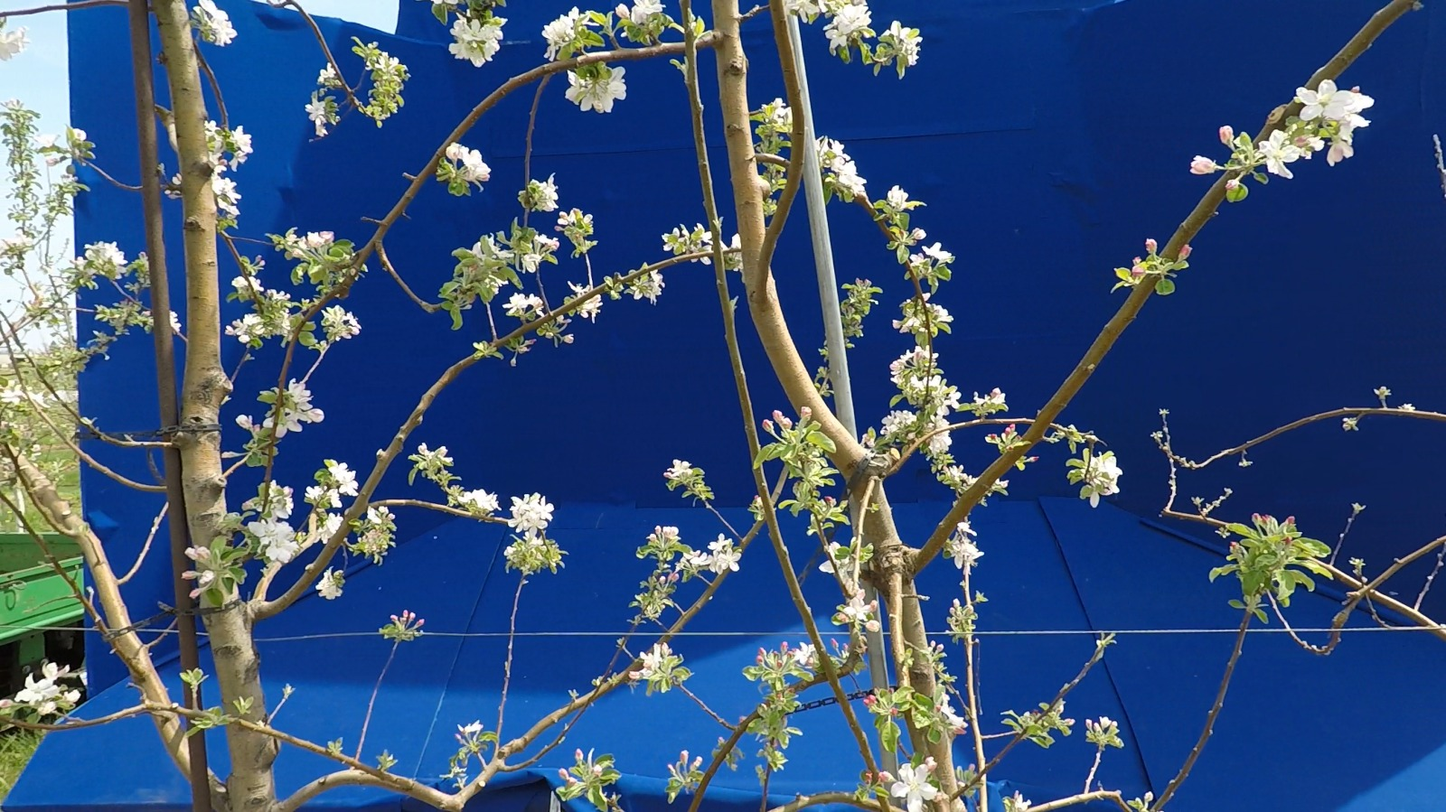flower: (1294, 79, 1375, 166), (785, 0, 876, 56), (249, 488, 300, 564), (542, 7, 603, 62), (891, 757, 949, 812), (495, 493, 555, 546), (276, 372, 324, 438), (450, 14, 507, 67), (566, 67, 626, 113), (1255, 130, 1311, 179), (14, 662, 72, 706), (684, 534, 742, 577), (443, 143, 492, 191), (830, 139, 868, 198), (194, 0, 238, 46), (837, 588, 880, 632), (629, 643, 678, 680), (882, 22, 923, 66), (890, 346, 930, 387), (211, 166, 241, 219), (85, 242, 127, 279), (521, 235, 559, 273), (616, 0, 673, 25), (1090, 453, 1123, 496), (223, 126, 253, 172), (936, 689, 968, 731), (931, 387, 962, 429), (947, 536, 984, 569), (631, 270, 665, 305), (322, 306, 362, 335), (0, 23, 30, 61), (226, 314, 264, 343), (503, 294, 545, 320), (455, 490, 502, 513), (329, 460, 359, 496), (880, 411, 917, 440), (531, 174, 559, 211), (305, 92, 328, 137), (249, 276, 290, 301), (312, 513, 343, 545), (713, 219, 742, 251), (316, 569, 345, 600), (483, 233, 514, 259), (923, 243, 955, 268), (375, 51, 402, 80), (577, 294, 603, 324), (25, 126, 57, 150), (929, 431, 953, 459), (452, 242, 487, 261), (771, 98, 793, 126), (458, 721, 484, 744), (789, 643, 816, 665), (664, 460, 692, 481), (888, 186, 911, 211), (662, 225, 690, 245), (0, 385, 28, 405), (205, 121, 223, 152), (655, 527, 681, 548), (566, 278, 590, 298), (1297, 135, 1325, 151), (929, 376, 949, 396), (322, 489, 343, 508), (931, 304, 953, 322), (28, 391, 51, 408), (695, 224, 713, 245), (319, 63, 336, 83), (911, 375, 928, 394), (232, 277, 249, 294), (305, 487, 324, 502), (958, 522, 977, 537), (70, 257, 89, 271), (368, 507, 382, 524), (170, 312, 181, 332), (820, 561, 835, 574), (1088, 492, 1100, 508), (65, 690, 80, 702), (663, 243, 679, 253), (264, 416, 276, 428), (210, 153, 221, 165), (700, 257, 711, 265), (341, 332, 352, 339), (703, 246, 713, 253), (1106, 452, 1114, 455), (75, 674, 80, 677), (902, 799, 906, 802), (929, 377, 932, 380)
